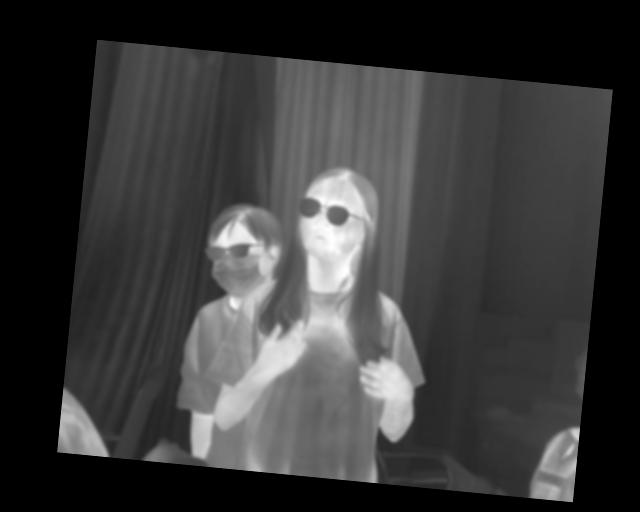face: (291, 162, 383, 269), (201, 198, 283, 300)
